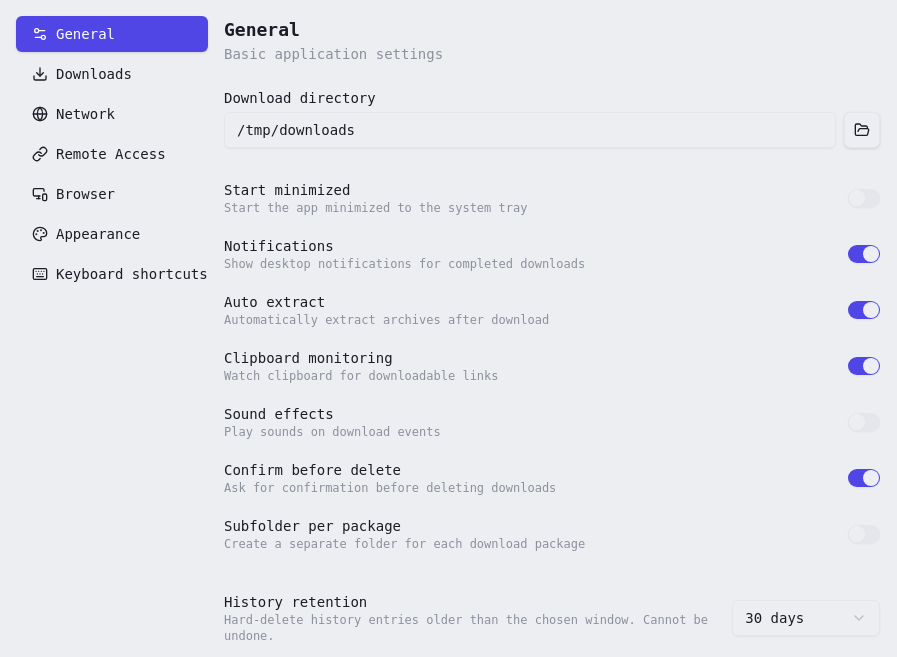
Test: SettingsView › should switch to Keyboard shortcuts section and list 10 shortcut rows
Expected: the button "General" is shown, x1=16 y1=16 x2=208 y2=52
Click the button "Keyboard shortcuts" at (112, 274), box x1=16 y1=256 x2=208 y2=292
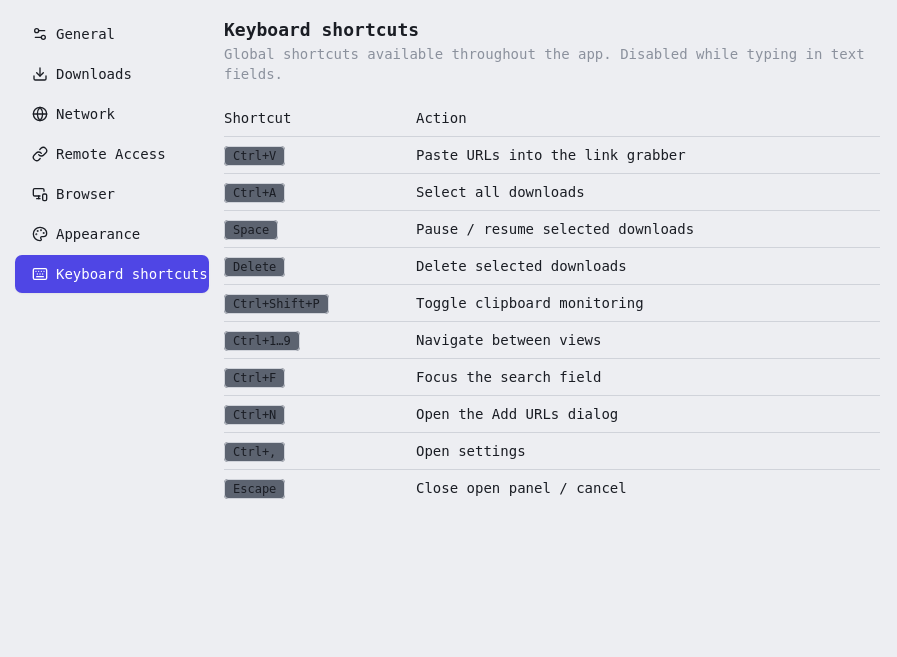
Result: the text "Paste URLs into the link grabber" is shown at x1=416 y1=136 x2=880 y2=174
Result: the text "Toggle clipboard monitoring" is shown at x1=416 y1=284 x2=880 y2=322
